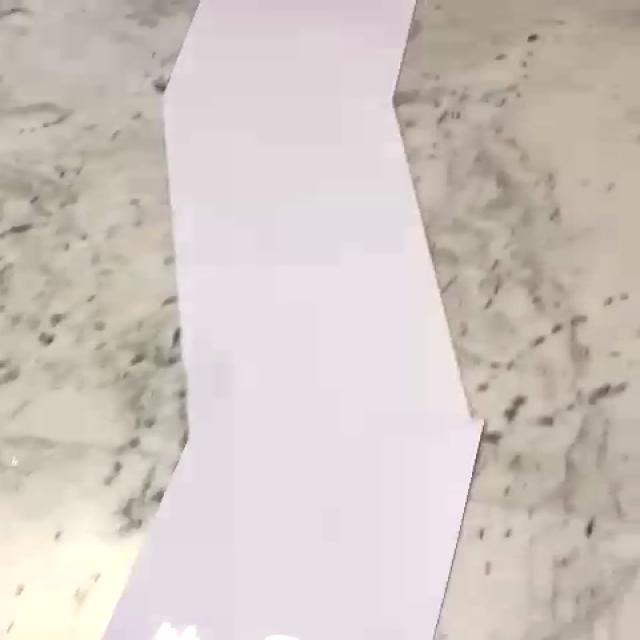road: (105, 0, 481, 640)
